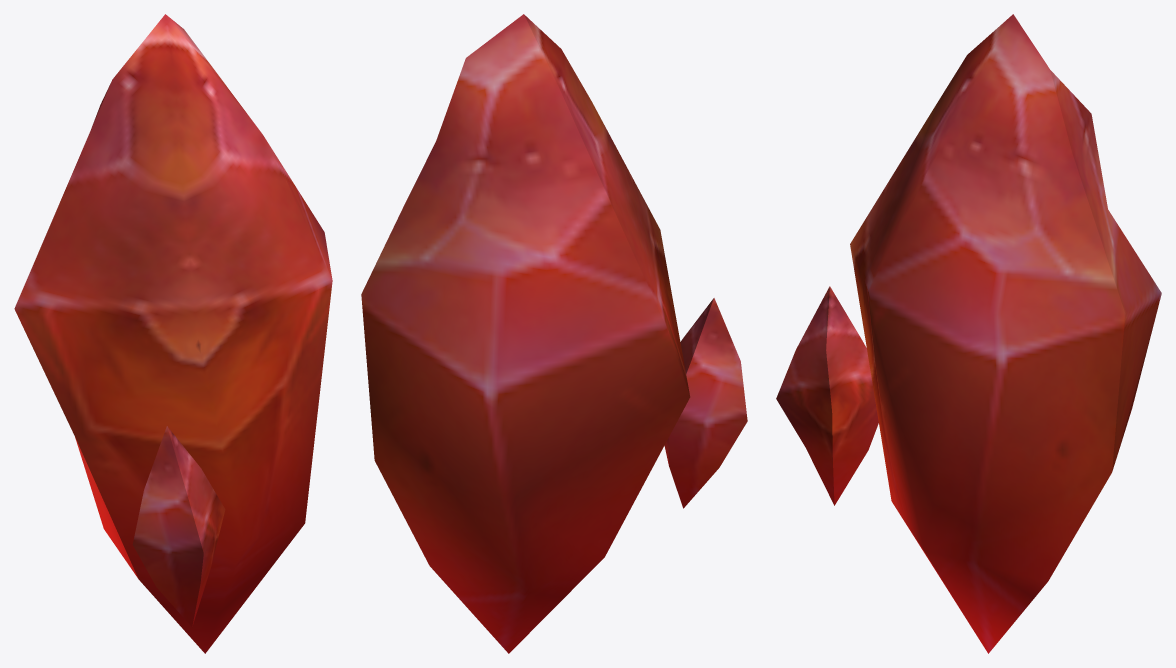
The model's file is ZC_lanshuijing01.FBX.
3 renders of one model, left to right at view 1: azimuth 30°, elevation 25°; view 2: azimuth 150°, elevation 25°; view 3: azimuth 270°, elevation 25°, orthographic. The views are drawn at different scales.
Parts seen in each view (by area): view 1: ZC_lanshuijing01_001; view 2: ZC_lanshuijing01_001; view 3: ZC_lanshuijing01_001.
Part boxes in pixels (x1,y1,x2,y2): ZC_lanshuijing01_001: (14,14,332,653); ZC_lanshuijing01_001: (361,14,747,653); ZC_lanshuijing01_001: (776,14,1161,653).
Bounding box in the file's own units: 89.21 × 192 × 107.
1 material, 1 textured.
